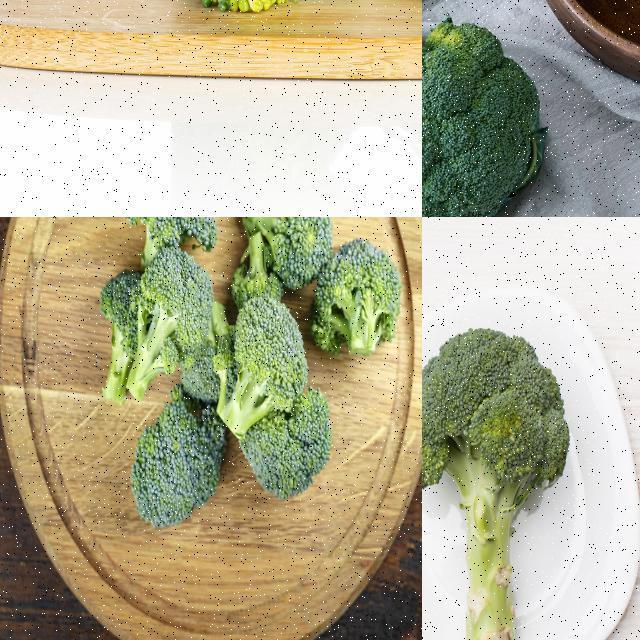broccoli: (422, 317, 573, 639), (422, 0, 538, 216), (214, 294, 310, 442), (128, 250, 212, 404), (308, 238, 408, 364), (138, 392, 227, 532), (90, 262, 151, 409), (124, 217, 225, 279), (237, 217, 331, 282)
